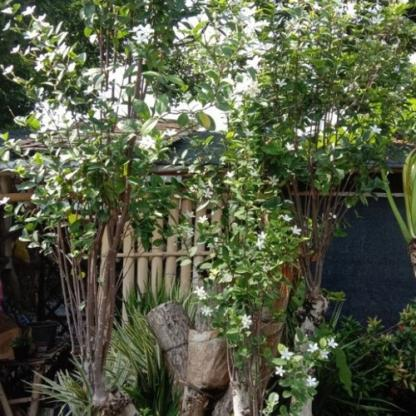Melati: (14, 18, 59, 61), (255, 229, 271, 254)
